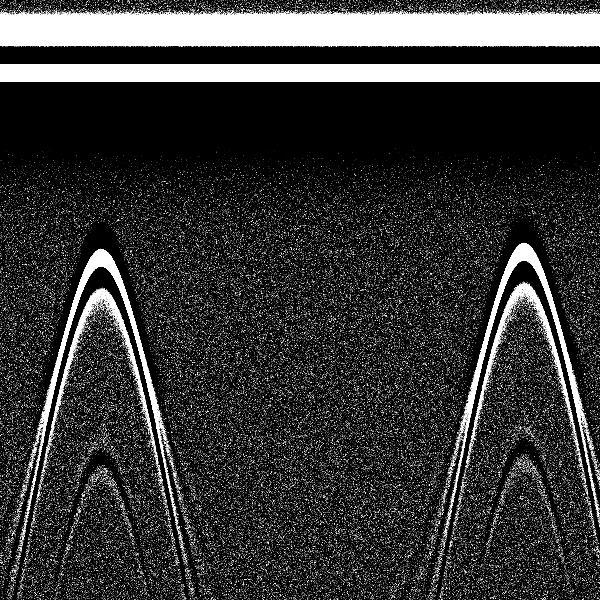pipe: (52, 7, 150, 335), (474, 3, 570, 328)
